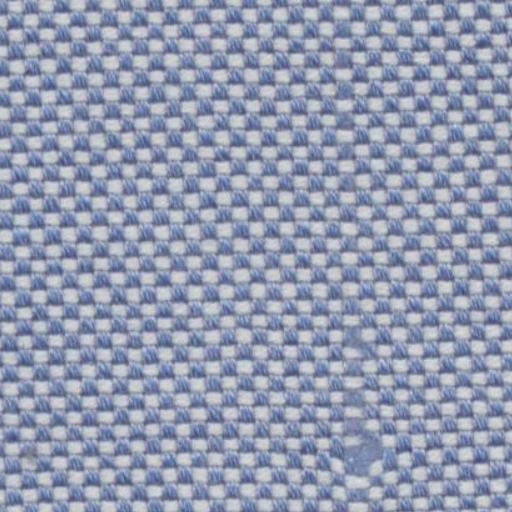MianQiu: (320, 414, 412, 490)
